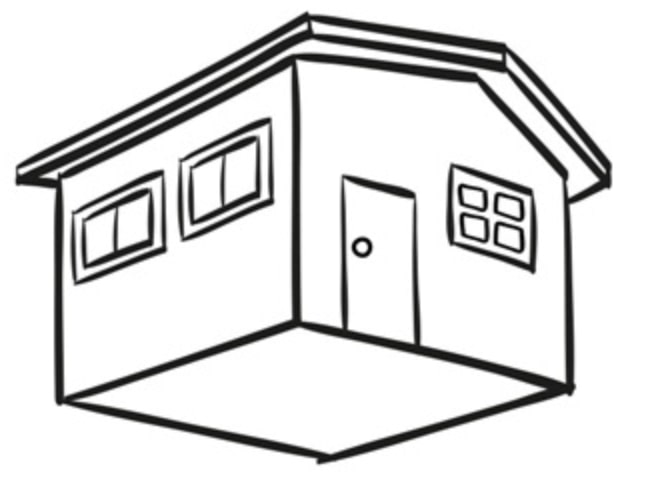House: (10, 9, 616, 466)
